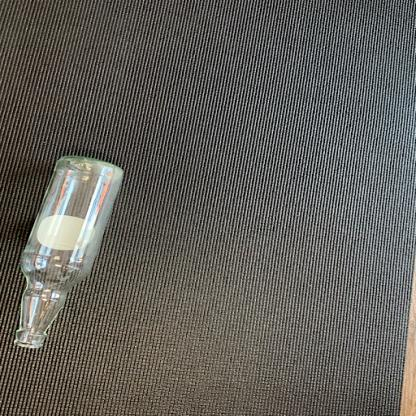trash: (13, 152, 128, 351)
